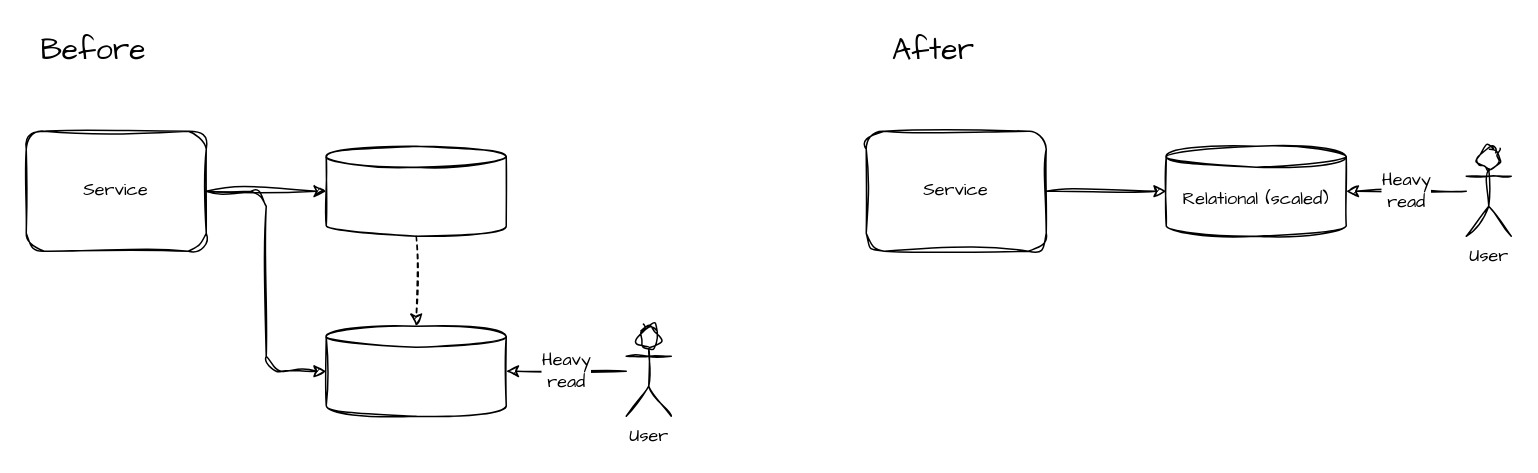
This 1538x473 diagram has some shape labels left out. The shapes that lost their labels are listed below. From the top down, each one's centre as x and y in pixels, then its label:
[415,190]: Relational
[415,370]: Cache
